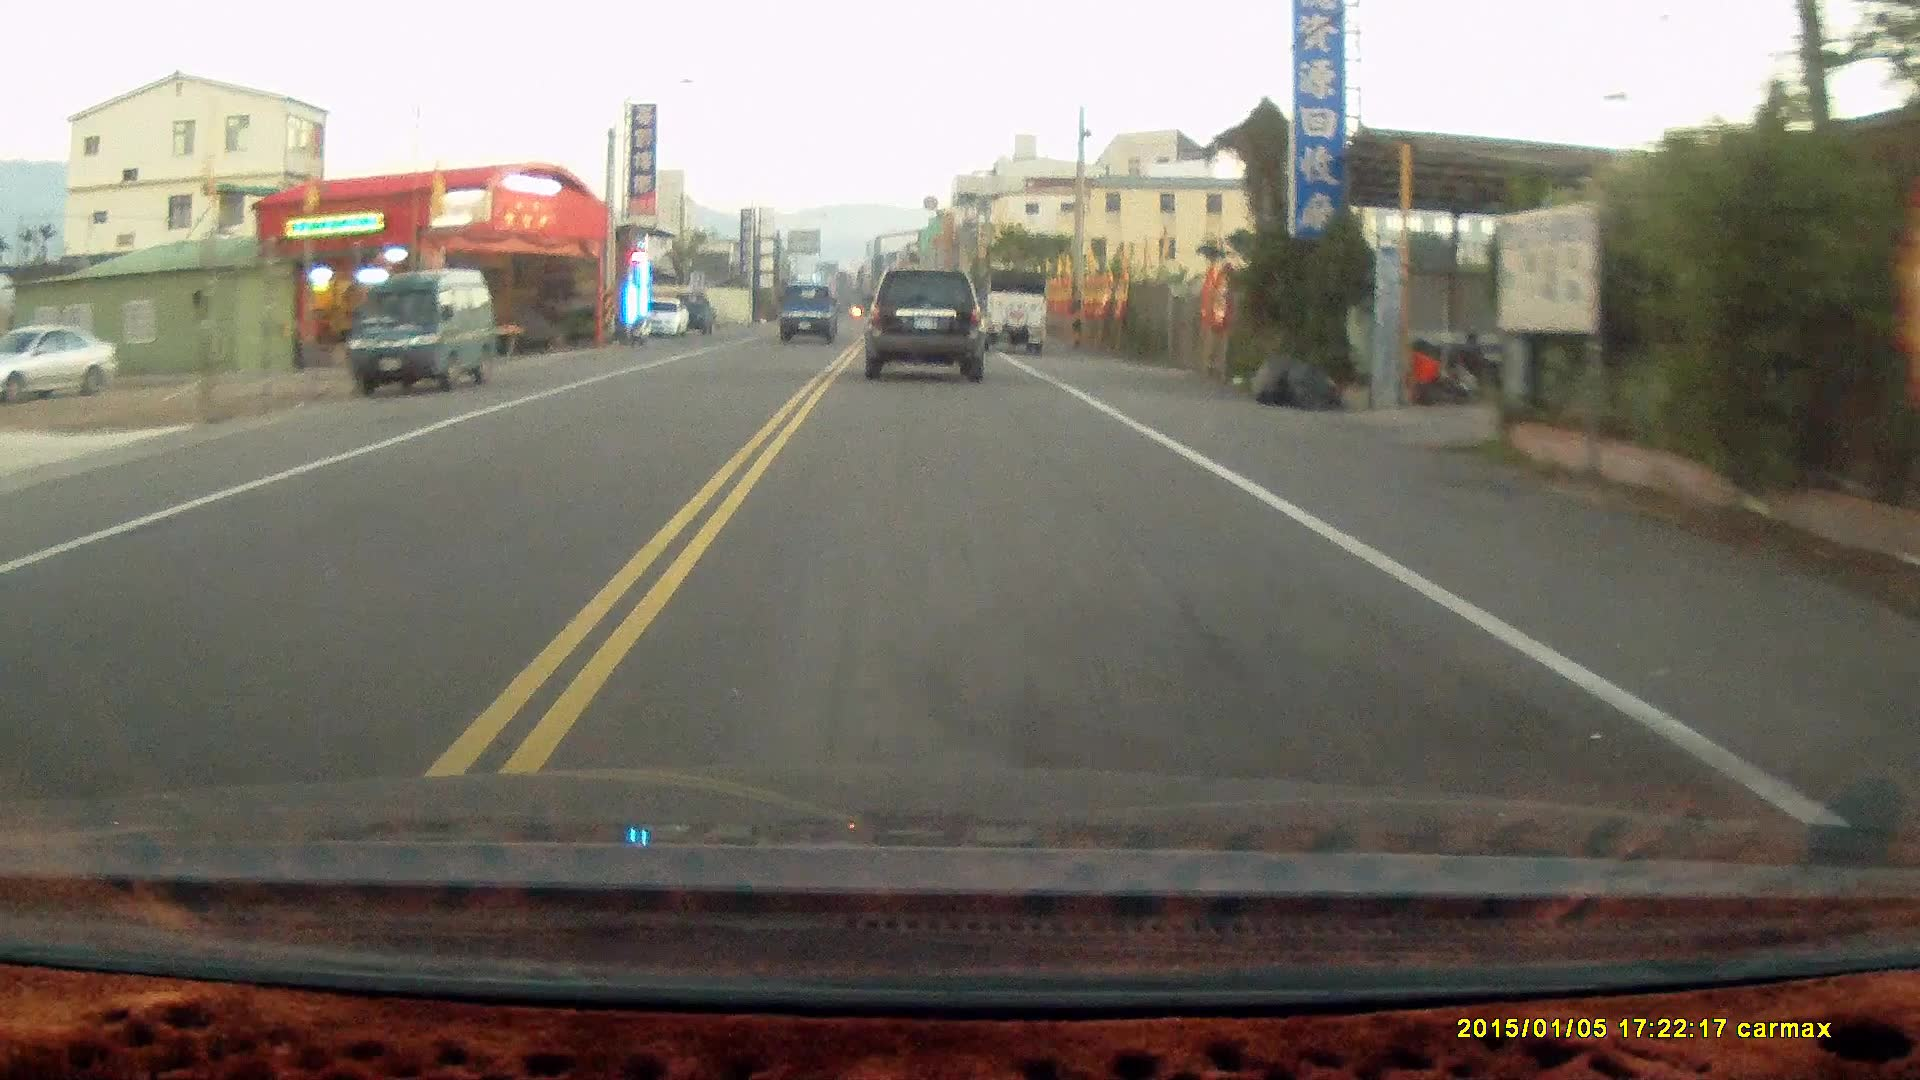vehicle: (345, 265, 501, 396), (866, 265, 986, 381), (0, 323, 117, 401), (963, 272, 1052, 357), (779, 284, 840, 347)
